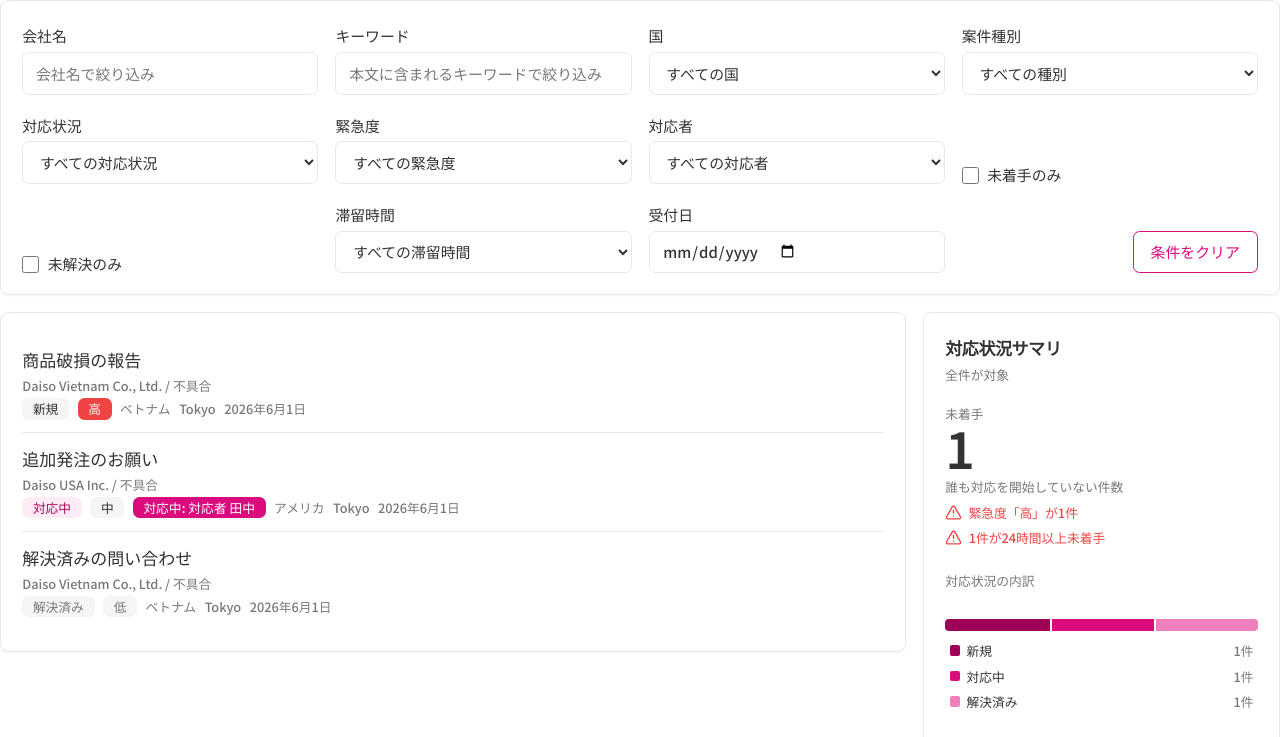
Test: HelpdeskInquiryListClient › 対応状況を解決済みに変更した状態で未解決のみを選ぶと、対応状況の絞り込みが解除され一覧が空にならない
Select "解決済み" in the dropdown labelled "対応状況" at (170, 163), box x1=22 y1=141 x2=318 y2=184
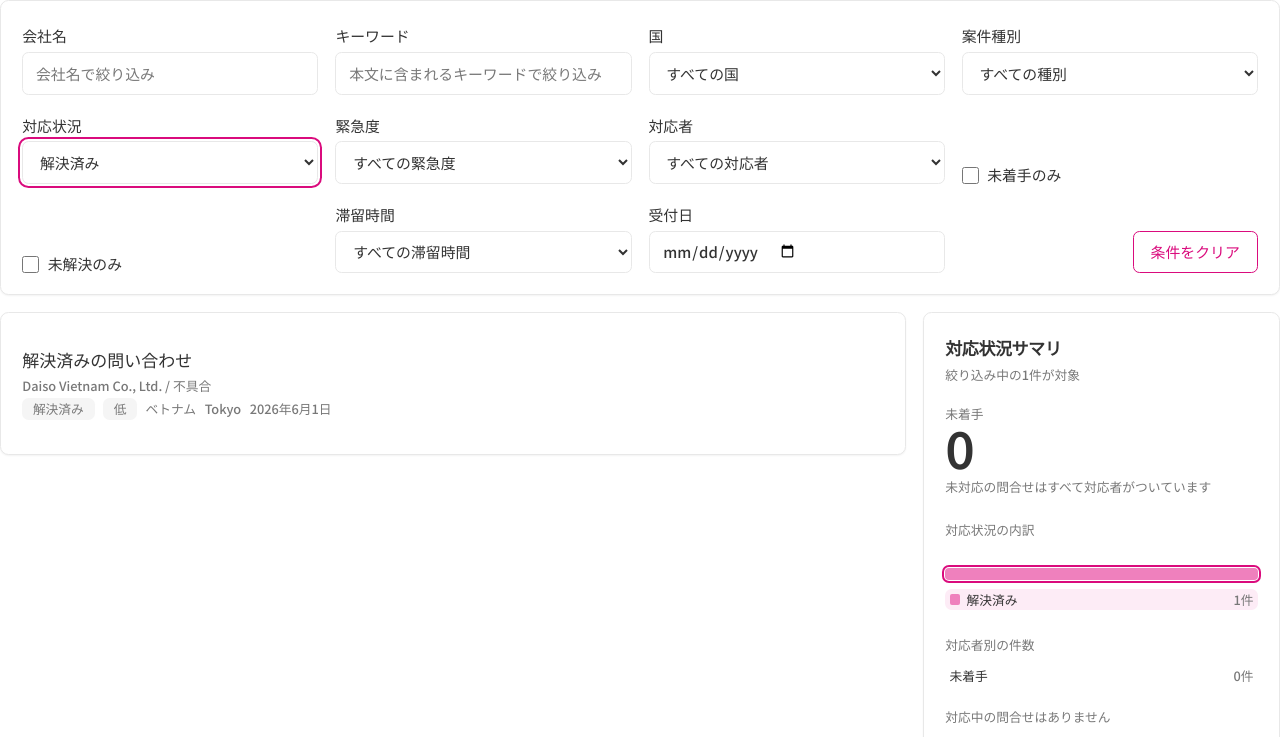
Click the checkbox labelled "未解決のみ" at (31, 264), box x1=22 y1=256 x2=39 y2=273
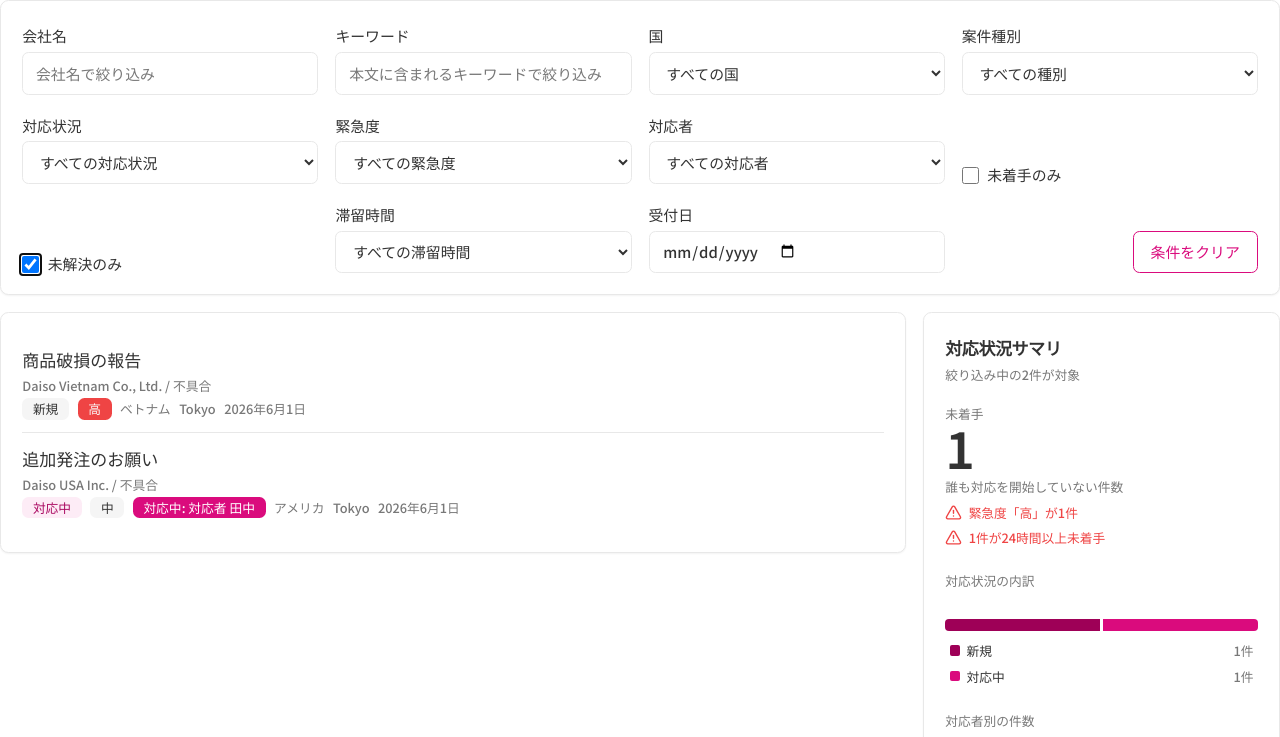
Check: the link "商品破損の報告" is shown, box x1=22 y1=347 x2=141 y2=372
Check: the link "解決済みの問い合わせ" is gone
